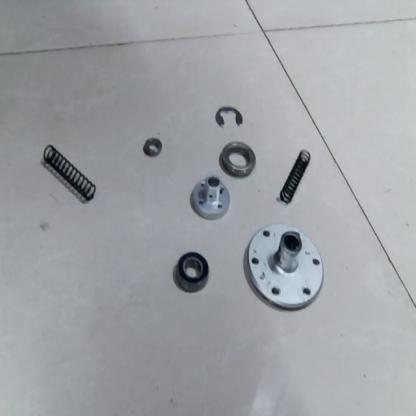FOD: (243, 219, 328, 313), (42, 139, 102, 206), (274, 144, 314, 209), (186, 171, 233, 222), (170, 246, 216, 297), (218, 136, 258, 179), (213, 103, 245, 128), (142, 134, 165, 161)
